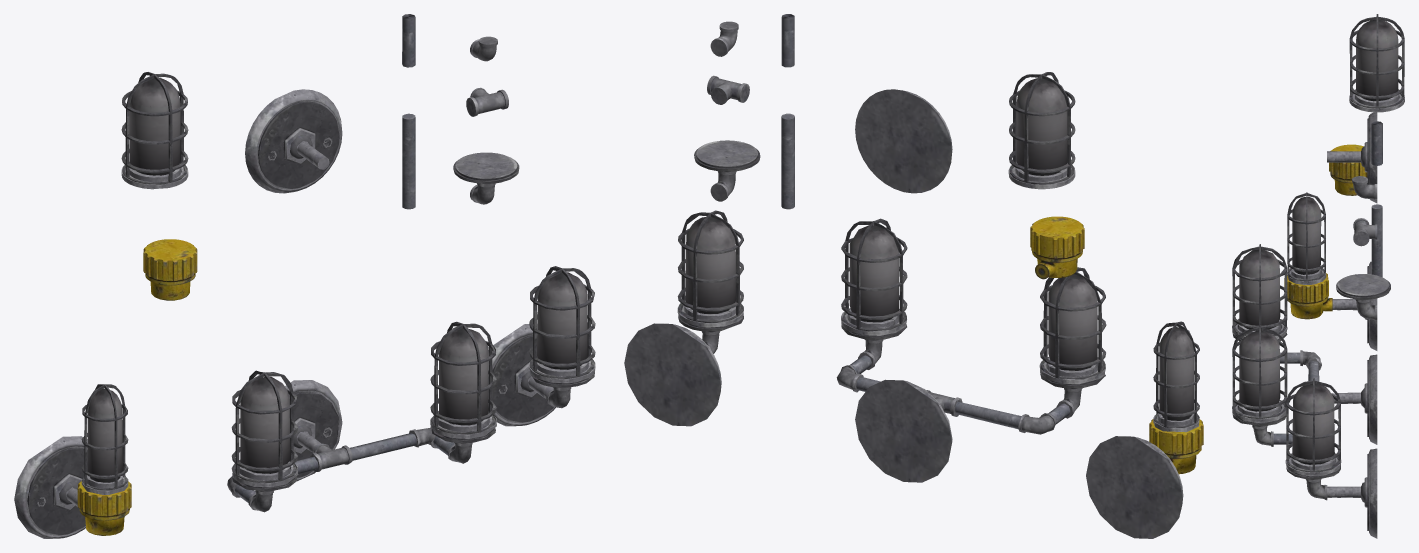
Rendered from industrial_caged_sconce.glb.
3 renders of one model, left to right at view 1: azimuth 30°, elevation 25°; view 2: azimuth 150°, elevation 25°; view 3: azimuth 270°, elevation 25°, orthographic. The views are drawn at different scales.
Parts seen in each view (by area): view 1: industrial_caged_sconce_c, industrial_caged_sconce_b, industrial_caged_sconce_a, industrial_caged_sconce_mount, industrial_caged_sconce_light, industrial_caged_sconce_base_a, industrial_caged_sconce_base_b, industrial_caged_sconce_pipe_long, industrial_caged_sconce_pipe_t, industrial_caged_sconce_pipe_short; view 2: industrial_caged_sconce_c, industrial_caged_sconce_a, industrial_caged_sconce_b, industrial_caged_sconce_mount, industrial_caged_sconce_light, industrial_caged_sconce_base_a, industrial_caged_sconce_base_b, industrial_caged_sconce_pipe_long, industrial_caged_sconce_pipe_t, industrial_caged_sconce_pipe_short, industrial_caged_sconce_elbow; view 3: industrial_caged_sconce_c, industrial_caged_sconce_a, industrial_caged_sconce_b, industrial_caged_sconce_light, industrial_caged_sconce_base_b, industrial_caged_sconce_mount, industrial_caged_sconce_base_a, industrial_caged_sconce_pipe_long, industrial_caged_sconce_pipe_t, industrial_caged_sconce_pipe_short, industrial_caged_sconce_elbow.
Part boxes in pixels (x1,y1,x2,y2): industrial_caged_sconce_c: [227, 321, 496, 512]; industrial_caged_sconce_b: [14, 384, 131, 538]; industrial_caged_sconce_a: [488, 266, 595, 426]; industrial_caged_sconce_mount: [245, 89, 342, 193]; industrial_caged_sconce_light: [121, 72, 188, 189]; industrial_caged_sconce_base_a: [143, 239, 197, 300]; industrial_caged_sconce_base_b: [453, 152, 519, 204]; industrial_caged_sconce_pipe_long: [402, 113, 415, 209]; industrial_caged_sconce_pipe_t: [466, 87, 508, 116]; industrial_caged_sconce_pipe_short: [402, 14, 415, 67]; industrial_caged_sconce_c: [836, 218, 1106, 482]; industrial_caged_sconce_a: [624, 210, 743, 426]; industrial_caged_sconce_b: [1086, 321, 1203, 538]; industrial_caged_sconce_mount: [855, 89, 952, 193]; industrial_caged_sconce_light: [1008, 72, 1075, 189]; industrial_caged_sconce_base_a: [1030, 216, 1084, 279]; industrial_caged_sconce_base_b: [694, 140, 760, 201]; industrial_caged_sconce_pipe_long: [781, 113, 794, 209]; industrial_caged_sconce_pipe_t: [707, 75, 749, 104]; industrial_caged_sconce_pipe_short: [781, 14, 794, 67]; industrial_caged_sconce_elbow: [710, 21, 738, 56]; industrial_caged_sconce_c: [1232, 244, 1377, 446]; industrial_caged_sconce_a: [1285, 378, 1377, 538]; industrial_caged_sconce_b: [1284, 192, 1377, 350]; industrial_caged_sconce_light: [1349, 14, 1404, 112]; industrial_caged_sconce_base_b: [1336, 274, 1390, 320]; industrial_caged_sconce_mount: [1327, 110, 1377, 203]; industrial_caged_sconce_base_a: [1329, 144, 1367, 195]; industrial_caged_sconce_pipe_long: [1371, 204, 1382, 277]; industrial_caged_sconce_pipe_t: [1353, 218, 1377, 246]; industrial_caged_sconce_pipe_short: [1371, 121, 1382, 165]; industrial_caged_sconce_elbow: [1352, 176, 1377, 199].
Bounding box in the file's own units: 1.21 × 0.9128 × 0.3894.
1 material, 1 textured.
